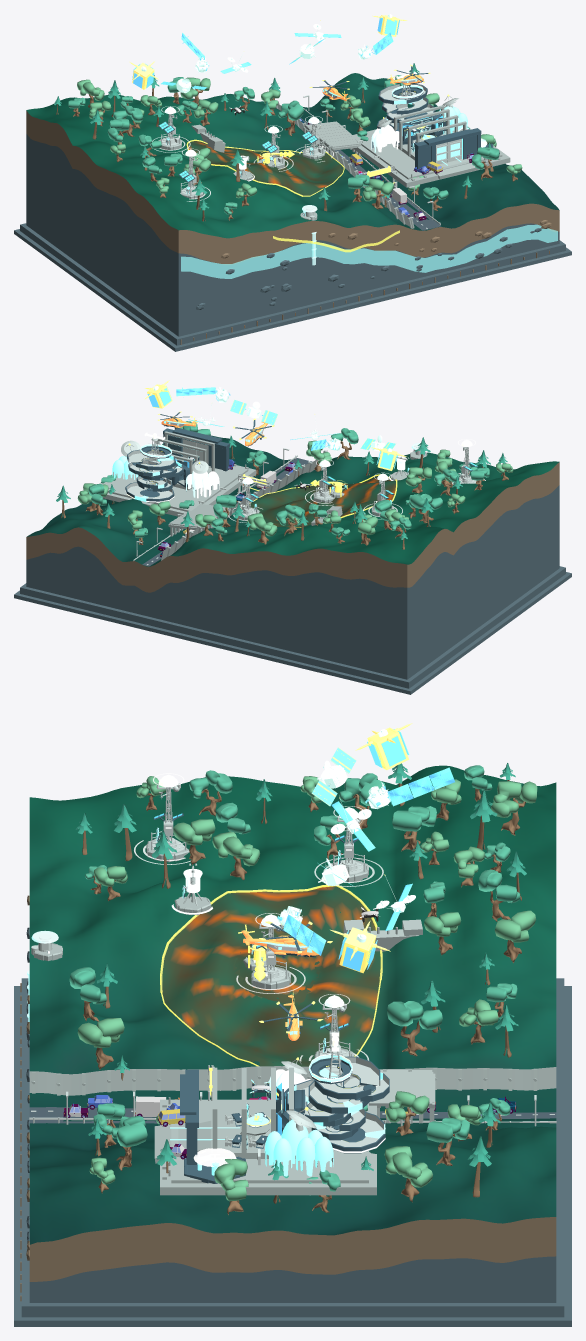
File: landslide_twin.glb
The picture shows the model from 3 angles, top to bottom: view 1: azimuth 30°, elevation 25°; view 2: azimuth 150°, elevation 25°; view 3: azimuth 270°, elevation 25°; orthographic projection. The views are drawn at different scales.
Visible parts, largest first — view 1: BedrockCutaway, TerrainSurface, SoilStrataCutaway, MountainForest, GroundwaterTable, OpsCampusPad, UnstableWedge, RetainingWall, OpsCommandStructure, OpsEntrancePortal, SlipSurface, MountainRoad (+4 smaller); view 2: BedrockCutaway, TerrainSurface, SoilStrataCutaway, MountainForest, OpsCampusPad, UnstableWedge, OpsCommandStructure, RetainingWall, OpsEntrancePortal, OpsSouthBiodome, GNSS_Sat_03, GNSS_Sat_08 (+3 smaller); view 3: TerrainSurface, BedrockCutaway, MountainForest, UnstableWedge, SoilStrataCutaway, OpsCampusPad, RetainingWall, OpsCommandStructure, OpsNorthBiodome, GNSS_Sat_05, MountainRoad, OpsEntrancePortal (+9 smaller).
Boxes of the visible parts, left/top/right/bottom form: BedrockCutaway: left=14, top=134, right=571, bottom=351; TerrainSurface: left=26, top=73, right=559, bottom=238; SoilStrataCutaway: left=26, top=110, right=559, bottom=344; MountainForest: left=54, top=63, right=522, bottom=221; GroundwaterTable: left=181, top=224, right=557, bottom=278; OpsCampusPad: left=352, top=105, right=510, bottom=187; UnstableWedge: left=188, top=141, right=343, bottom=195; RetainingWall: left=191, top=100, right=414, bottom=228; OpsCommandStructure: left=377, top=83, right=435, bottom=128; OpsEntrancePortal: left=414, top=128, right=481, bottom=169; SlipSurface: left=186, top=139, right=399, bottom=252; MountainRoad: left=300, top=117, right=441, bottom=230; BedrockCutaway: left=14, top=485, right=571, bottom=694; TerrainSurface: left=27, top=435, right=559, bottom=566; SoilStrataCutaway: left=26, top=462, right=559, bottom=592; MountainForest: left=56, top=421, right=513, bottom=549; OpsCampusPad: left=99, top=431, right=256, bottom=516; UnstableWedge: left=249, top=476, right=395, bottom=527; OpsCommandStructure: left=125, top=444, right=183, bottom=502; RetainingWall: left=161, top=450, right=342, bottom=560; OpsEntrancePortal: left=163, top=428, right=229, bottom=471; OpsSouthBiodome: left=185, top=470, right=219, bottom=498; GNSS_Sat_03: left=230, top=399, right=277, bottom=425; GNSS_Sat_08: left=144, top=380, right=172, bottom=408; TerrainSurface: left=29, top=765, right=556, bottom=1244; BedrockCutaway: left=14, top=927, right=571, bottom=1326; MountainForest: left=69, top=763, right=537, bottom=1214; UnstableWedge: left=161, top=886, right=380, bottom=1066; SoilStrataCutaway: left=20, top=895, right=556, bottom=1301; OpsCampusPad: left=154, top=1067, right=376, bottom=1195; RetainingWall: left=29, top=919, right=556, bottom=1123; OpsCommandStructure: left=287, top=1054, right=389, bottom=1153; OpsNorthBiodome: left=264, top=1119, right=333, bottom=1176; GNSS_Sat_05: left=365, top=767, right=454, bottom=809; MountainRoad: left=29, top=1107, right=556, bottom=1123; OpsEntrancePortal: left=180, top=1069, right=198, bottom=1164.
Bounding box in the file's own units: 16.24 × 7.62 × 11.44.
Materials: 36 (2 with a texture image).
